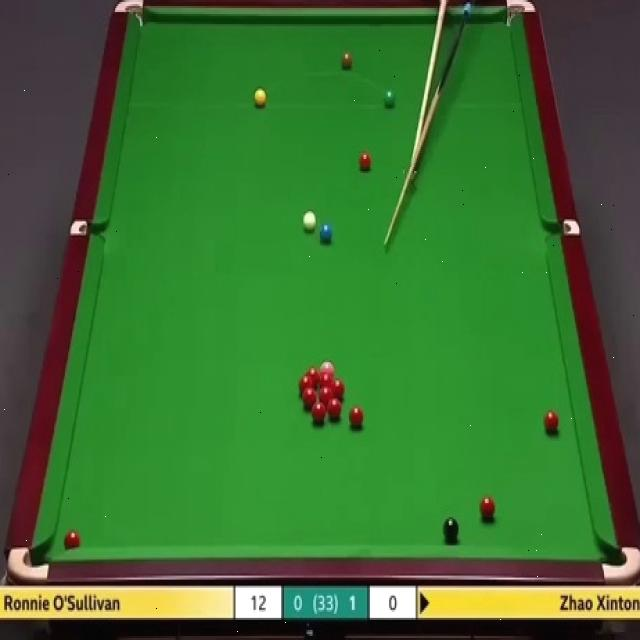black-ball: (443, 518, 459, 544)
blue-ball: (320, 223, 332, 246)
brown-ball: (340, 54, 352, 73)
green-ball: (383, 89, 395, 109)
pink-ball: (318, 358, 333, 372)
red-ball: (64, 528, 80, 552), (326, 396, 340, 422), (480, 498, 496, 520), (310, 398, 326, 420), (544, 411, 558, 434), (303, 387, 316, 409), (348, 409, 361, 431), (358, 152, 371, 174), (298, 377, 314, 394), (308, 366, 320, 388), (330, 382, 344, 398), (317, 372, 331, 384), (320, 390, 334, 397)
white-ball: (302, 210, 317, 234)
yellow-ball: (254, 86, 267, 108)
